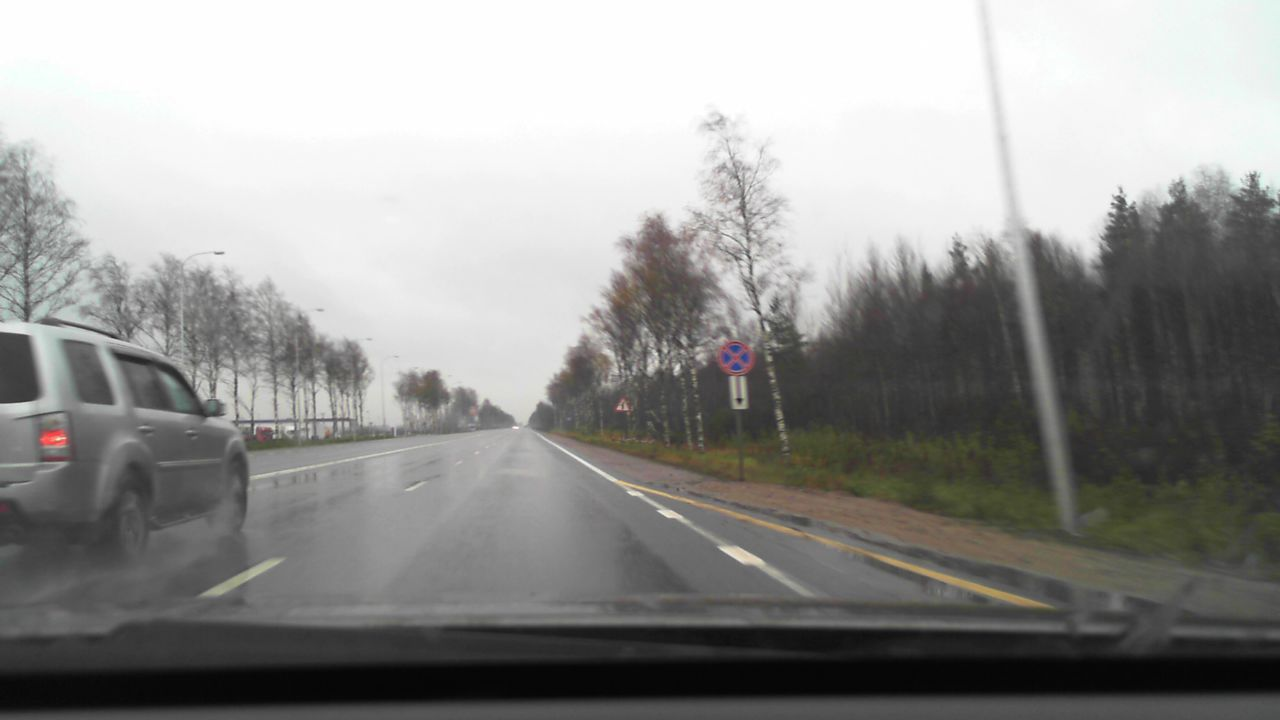No Parking: (716, 339, 755, 376)
